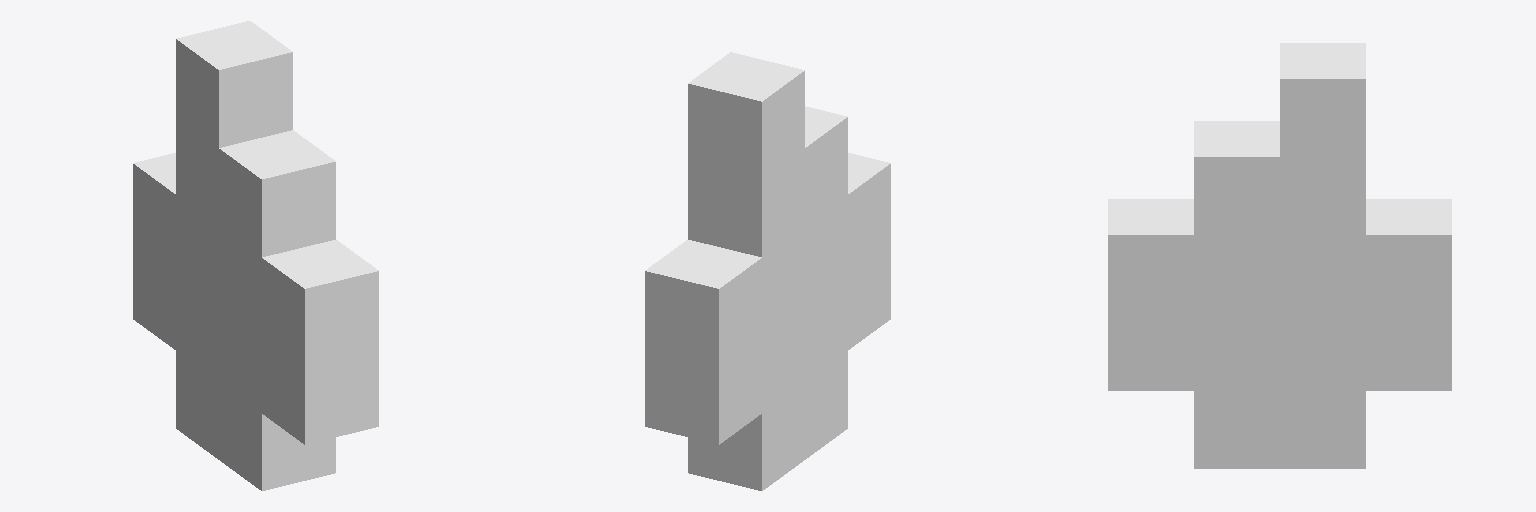
The model's file is IconMiniBomb.obj.
The picture shows the model from 3 angles: view 1: azimuth 30°, elevation 25°; view 2: azimuth 150°, elevation 25°; view 3: azimuth 270°, elevation 25°; orthographic projection.
Visible parts, largest first — view 1: object 1; view 2: object 1; view 3: object 1.
Part boxes in pixels (x1,y1,x2,y2): object 1: (133,21,378,490); object 1: (645,52,890,490); object 1: (1108,43,1451,468).
Size of the model in its own units: 0.1 by 0.5 by 0.4.